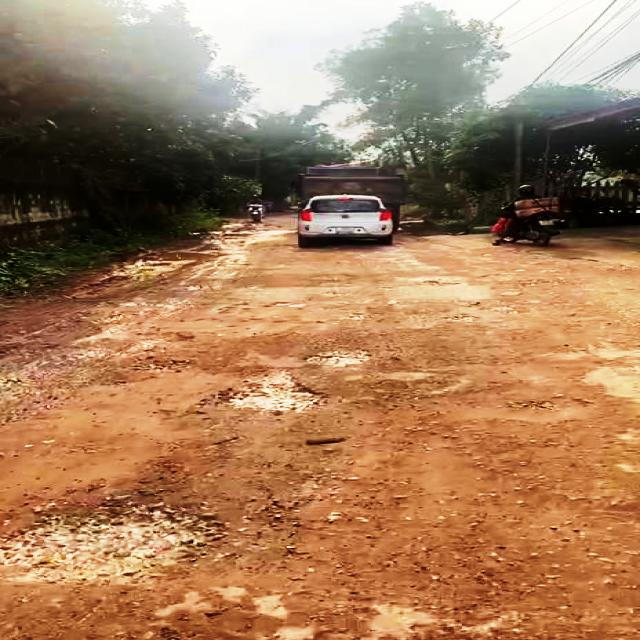pothole: (0, 497, 239, 590), (412, 380, 616, 424), (205, 372, 328, 417), (119, 330, 202, 373), (305, 349, 382, 368)
